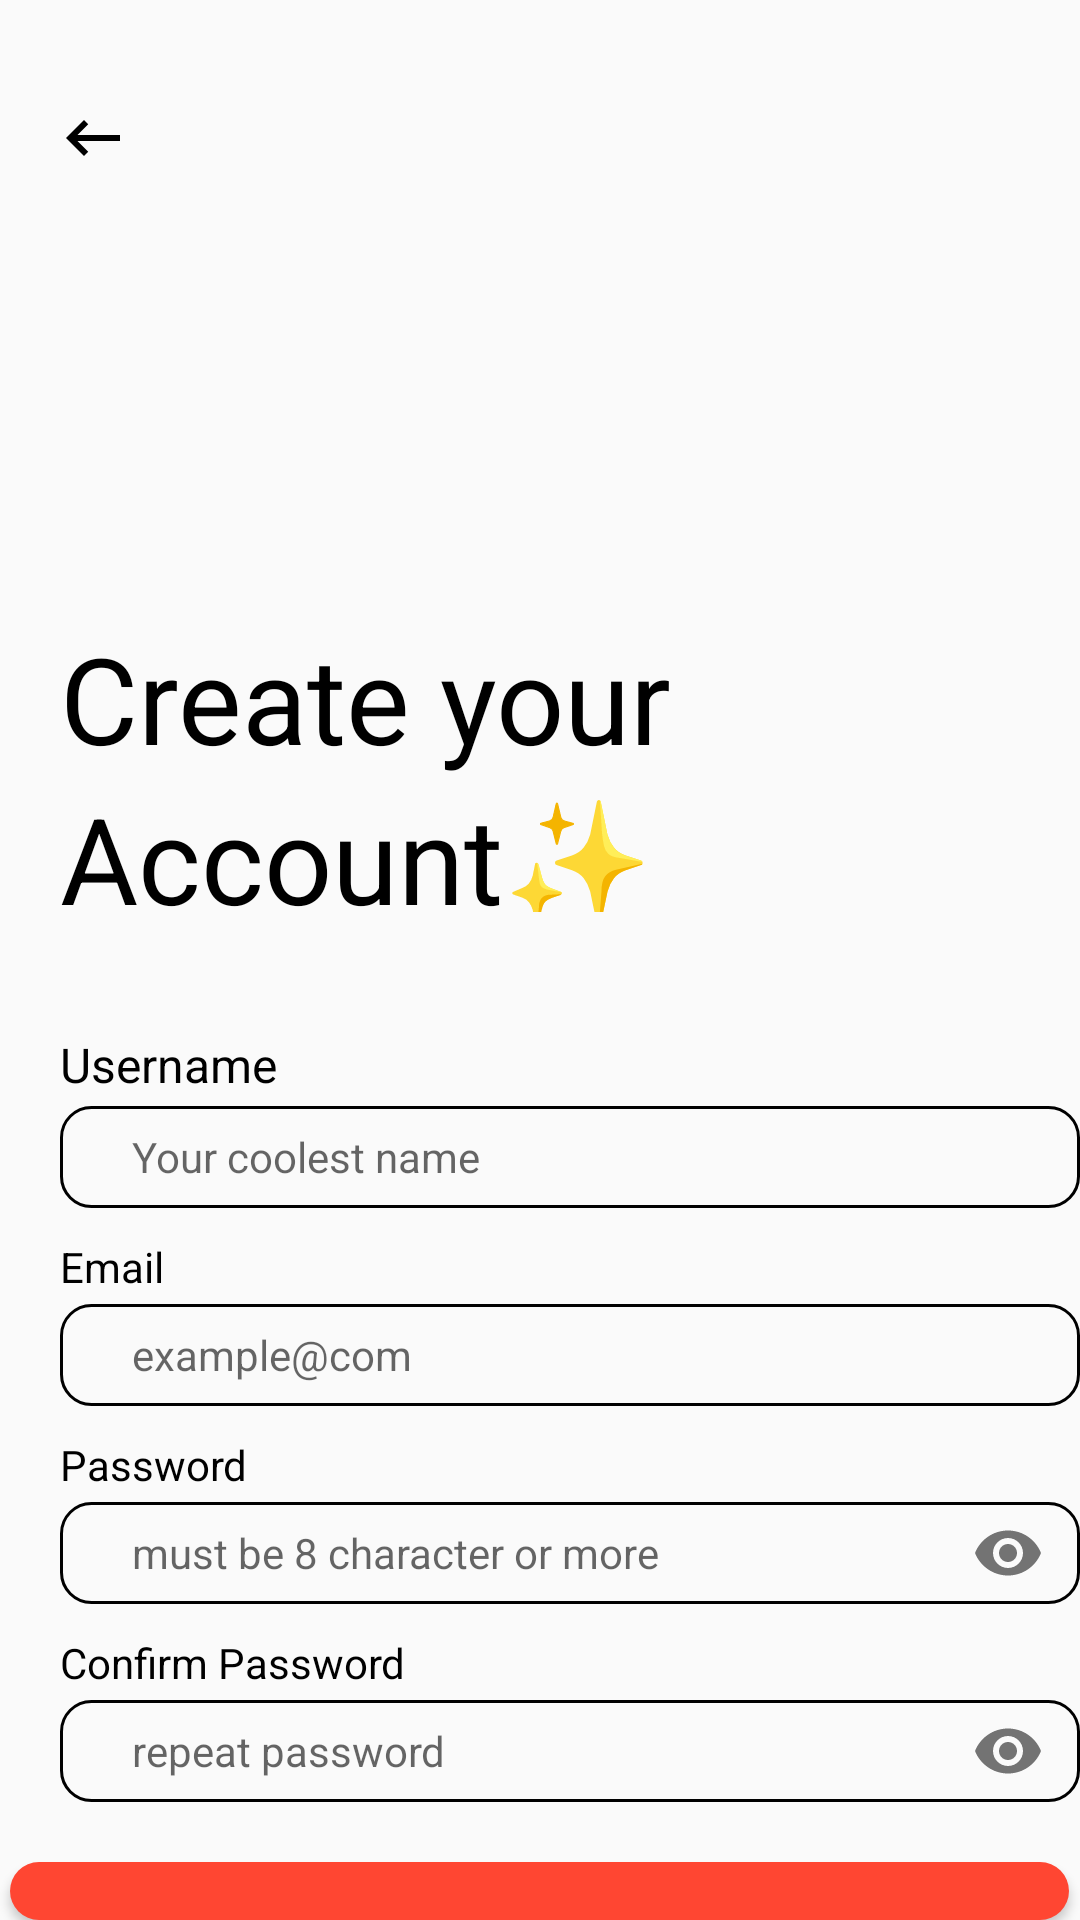

Where to tap for icons on this 1080px×1920px app screen, as (x,y):
backarrow: (93,138)
